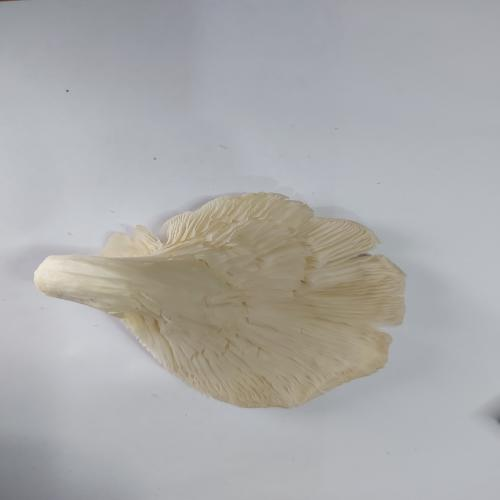Oyster Mushroom: (33, 191, 407, 410)
